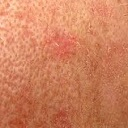Actinic: (25, 26, 117, 115)
